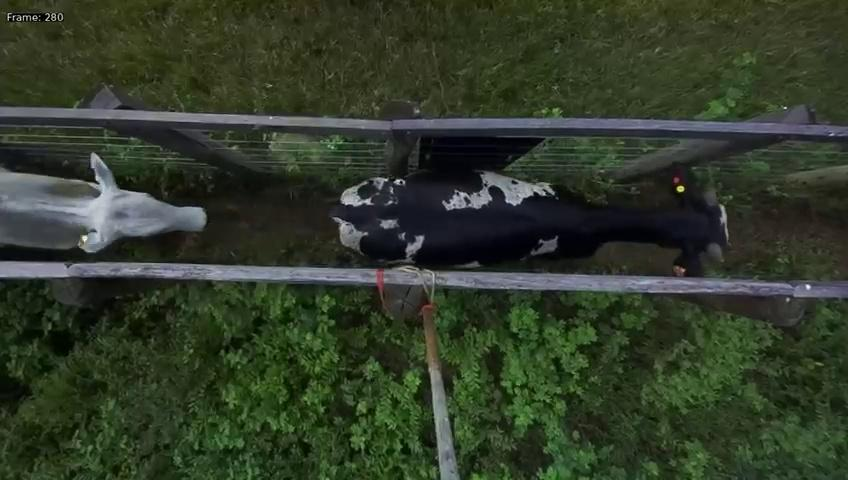cattle: (315, 155, 755, 286)
